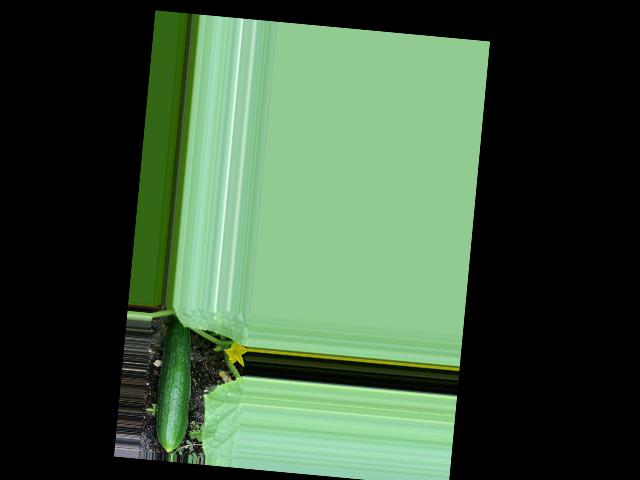cucumber: (151, 317, 197, 454)
